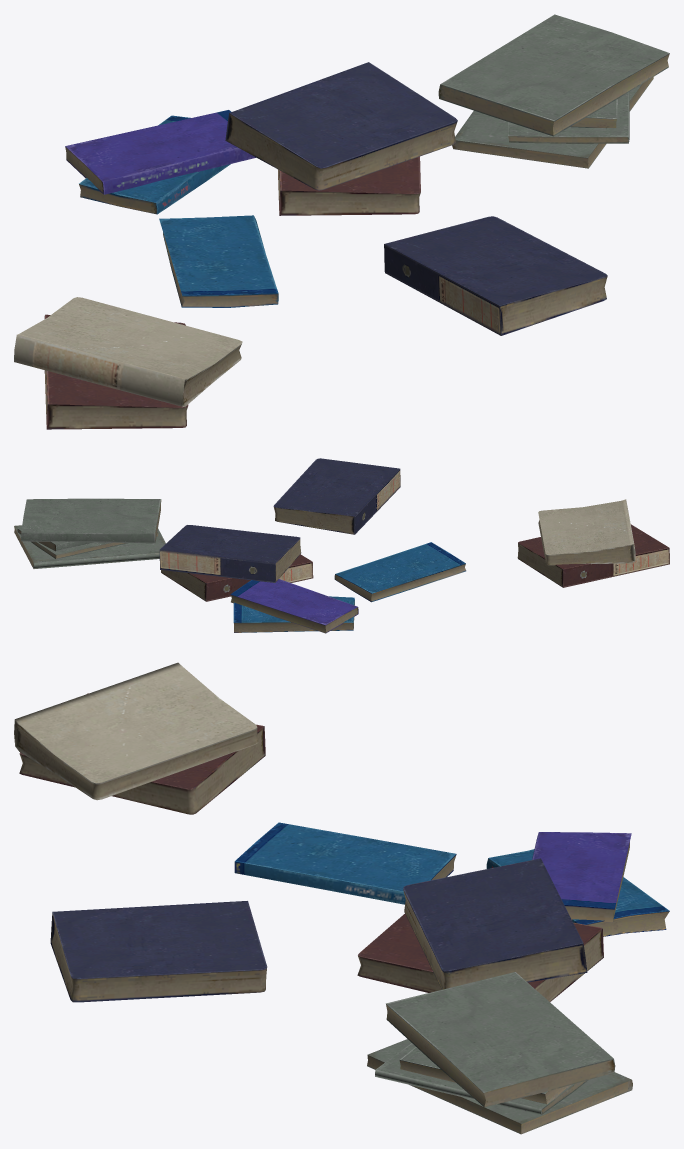
Rendered from sm39_004_hospitaldeskset02a.fbx.
3 renders of one model, top to bottom at view 1: azimuth 30°, elevation 25°; view 2: azimuth 150°, elevation 25°; view 3: azimuth 270°, elevation 25°, orthographic. The views are drawn at different scales.
Visible parts, largest first — view 1: LOD_1_Group_1_Sub_1__sm36_007_PaperWork01A_A_Mat, LOD_1_Group_4_Sub_1__sm36_007_PaperWork01A_A_Mat, LOD_1_Group_3_Sub_1__sm36_007_PaperWork01A_A_Mat, LOD_1_Group_7_Sub_1__sm36_007_PaperWork01A_A_Mat, LOD_1_Group_0_Sub_1__sm36_007_PaperWork01A_A_Mat, LOD_1_Group_9_Sub_1__sm36_007_PaperWork01A_A_Mat, LOD_1_Group_5_Sub_1__sm36_007_PaperWork01A_A_Mat, LOD_1_Group_2_Sub_1__sm36_007_PaperWork01A_A_Mat, LOD_1_Group_8_Sub_1__sm36_007_PaperWork01A_A_Mat, LOD_1_Group_6_Sub_1__sm36_007_PaperWork01A_A_Mat; view 2: LOD_1_Group_1_Sub_1__sm36_007_PaperWork01A_A_Mat, LOD_1_Group_4_Sub_1__sm36_007_PaperWork01A_A_Mat, LOD_1_Group_3_Sub_1__sm36_007_PaperWork01A_A_Mat, LOD_1_Group_7_Sub_1__sm36_007_PaperWork01A_A_Mat, LOD_1_Group_0_Sub_1__sm36_007_PaperWork01A_A_Mat, LOD_1_Group_5_Sub_1__sm36_007_PaperWork01A_A_Mat, LOD_1_Group_9_Sub_1__sm36_007_PaperWork01A_A_Mat, LOD_1_Group_2_Sub_1__sm36_007_PaperWork01A_A_Mat, LOD_1_Group_8_Sub_1__sm36_007_PaperWork01A_A_Mat, LOD_1_Group_6_Sub_1__sm36_007_PaperWork01A_A_Mat; view 3: LOD_1_Group_1_Sub_1__sm36_007_PaperWork01A_A_Mat, LOD_1_Group_7_Sub_1__sm36_007_PaperWork01A_A_Mat, LOD_1_Group_3_Sub_1__sm36_007_PaperWork01A_A_Mat, LOD_1_Group_4_Sub_1__sm36_007_PaperWork01A_A_Mat, LOD_1_Group_0_Sub_1__sm36_007_PaperWork01A_A_Mat, LOD_1_Group_9_Sub_1__sm36_007_PaperWork01A_A_Mat, LOD_1_Group_5_Sub_1__sm36_007_PaperWork01A_A_Mat, LOD_1_Group_2_Sub_1__sm36_007_PaperWork01A_A_Mat, LOD_1_Group_8_Sub_1__sm36_007_PaperWork01A_A_Mat, LOD_1_Group_6_Sub_1__sm36_007_PaperWork01A_A_Mat.
Boxes of the visible parts, x1,y1,x2,y2 form: LOD_1_Group_1_Sub_1__sm36_007_PaperWork01A_A_Mat: (44, 110, 607, 429); LOD_1_Group_4_Sub_1__sm36_007_PaperWork01A_A_Mat: (225, 62, 457, 190); LOD_1_Group_3_Sub_1__sm36_007_PaperWork01A_A_Mat: (438, 14, 669, 136); LOD_1_Group_7_Sub_1__sm36_007_PaperWork01A_A_Mat: (14, 297, 242, 406); LOD_1_Group_0_Sub_1__sm36_007_PaperWork01A_A_Mat: (159, 215, 278, 307); LOD_1_Group_9_Sub_1__sm36_007_PaperWork01A_A_Mat: (278, 156, 420, 215); LOD_1_Group_5_Sub_1__sm36_007_PaperWork01A_A_Mat: (452, 77, 653, 168); LOD_1_Group_2_Sub_1__sm36_007_PaperWork01A_A_Mat: (79, 115, 230, 214); LOD_1_Group_8_Sub_1__sm36_007_PaperWork01A_A_Mat: (508, 92, 629, 143); LOD_1_Group_6_Sub_1__sm36_007_PaperWork01A_A_Mat: (570, 99, 617, 127); LOD_1_Group_1_Sub_1__sm36_007_PaperWork01A_A_Mat: (230, 458, 669, 633); LOD_1_Group_4_Sub_1__sm36_007_PaperWork01A_A_Mat: (159, 525, 301, 582); LOD_1_Group_3_Sub_1__sm36_007_PaperWork01A_A_Mat: (21, 498, 161, 543); LOD_1_Group_7_Sub_1__sm36_007_PaperWork01A_A_Mat: (538, 499, 635, 565); LOD_1_Group_0_Sub_1__sm36_007_PaperWork01A_A_Mat: (334, 542, 466, 602); LOD_1_Group_5_Sub_1__sm36_007_PaperWork01A_A_Mat: (14, 525, 165, 568); LOD_1_Group_9_Sub_1__sm36_007_PaperWork01A_A_Mat: (161, 554, 313, 601); LOD_1_Group_2_Sub_1__sm36_007_PaperWork01A_A_Mat: (233, 596, 354, 632); LOD_1_Group_8_Sub_1__sm36_007_PaperWork01A_A_Mat: (17, 527, 158, 559); LOD_1_Group_6_Sub_1__sm36_007_PaperWork01A_A_Mat: (38, 541, 97, 551); LOD_1_Group_1_Sub_1__sm36_007_PaperWork01A_A_Mat: (19, 693, 631, 1002); LOD_1_Group_7_Sub_1__sm36_007_PaperWork01A_A_Mat: (14, 662, 258, 800); LOD_1_Group_3_Sub_1__sm36_007_PaperWork01A_A_Mat: (386, 972, 615, 1107); LOD_1_Group_4_Sub_1__sm36_007_PaperWork01A_A_Mat: (403, 858, 587, 989); LOD_1_Group_0_Sub_1__sm36_007_PaperWork01A_A_Mat: (234, 822, 456, 904); LOD_1_Group_9_Sub_1__sm36_007_PaperWork01A_A_Mat: (357, 914, 603, 1001); LOD_1_Group_5_Sub_1__sm36_007_PaperWork01A_A_Mat: (367, 1039, 632, 1134); LOD_1_Group_2_Sub_1__sm36_007_PaperWork01A_A_Mat: (486, 849, 669, 936); LOD_1_Group_8_Sub_1__sm36_007_PaperWork01A_A_Mat: (375, 1043, 588, 1115); LOD_1_Group_6_Sub_1__sm36_007_PaperWork01A_A_Mat: (399, 1046, 571, 1104).
Bounding box in the file's own units: 1.6 × 0.1235 × 1.06.
